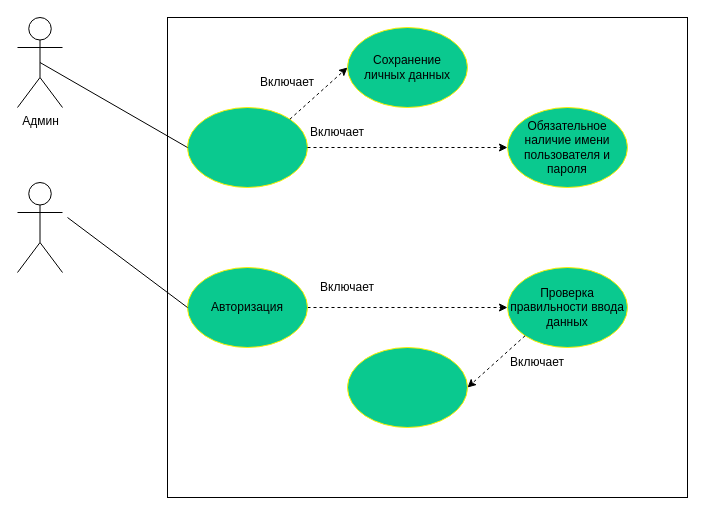
The diagram is 705 pixels wide and 515 high, and some of its shapes have lost their labels. Here are the shapes that lost their labels. From the top down, the centre of each, then its label:
At point 247,147: "Создание новой учетной записи".
At point 39,227: "ЮЗЕР".
At point 407,387: "Получение доступа к сисетме".
